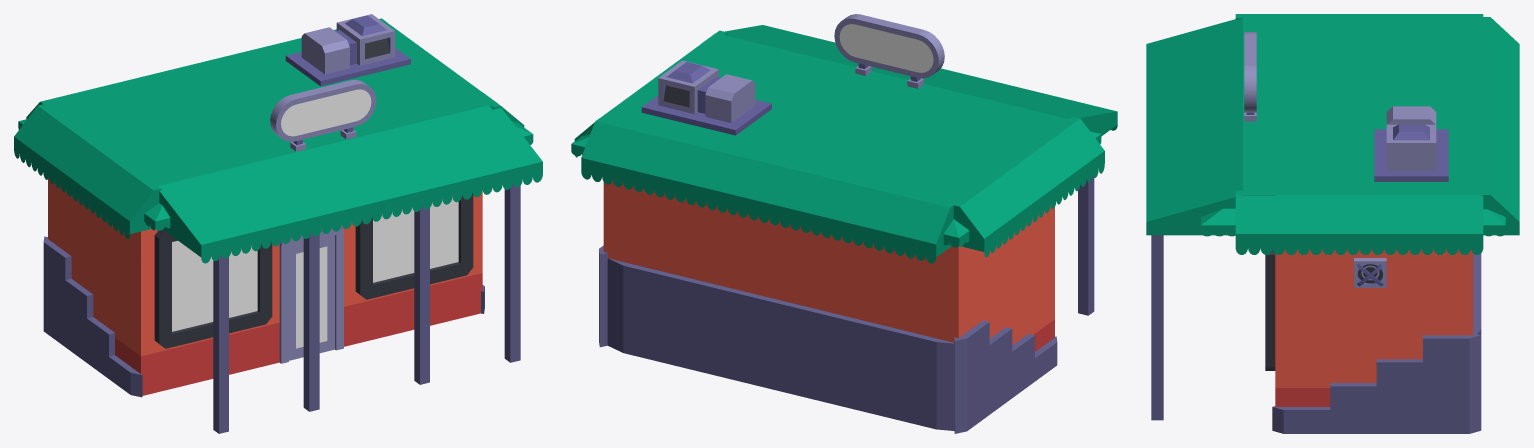
File: shop.fbx
The picture shows the model from 3 angles, left to right: view 1: azimuth 30°, elevation 25°; view 2: azimuth 150°, elevation 25°; view 3: azimuth 270°, elevation 25°; orthographic projection. The views are drawn at different scales.
Visible parts, largest first — view 1: mergedBlocks; view 2: mergedBlocks; view 3: mergedBlocks.
Part boxes in pixels (x1,y1,x2,y2): mergedBlocks: (14, 14, 542, 433); mergedBlocks: (571, 14, 1117, 433); mergedBlocks: (1146, 14, 1519, 433).
Bounding box in the file's own units: 39.24 × 26 × 30.12.
